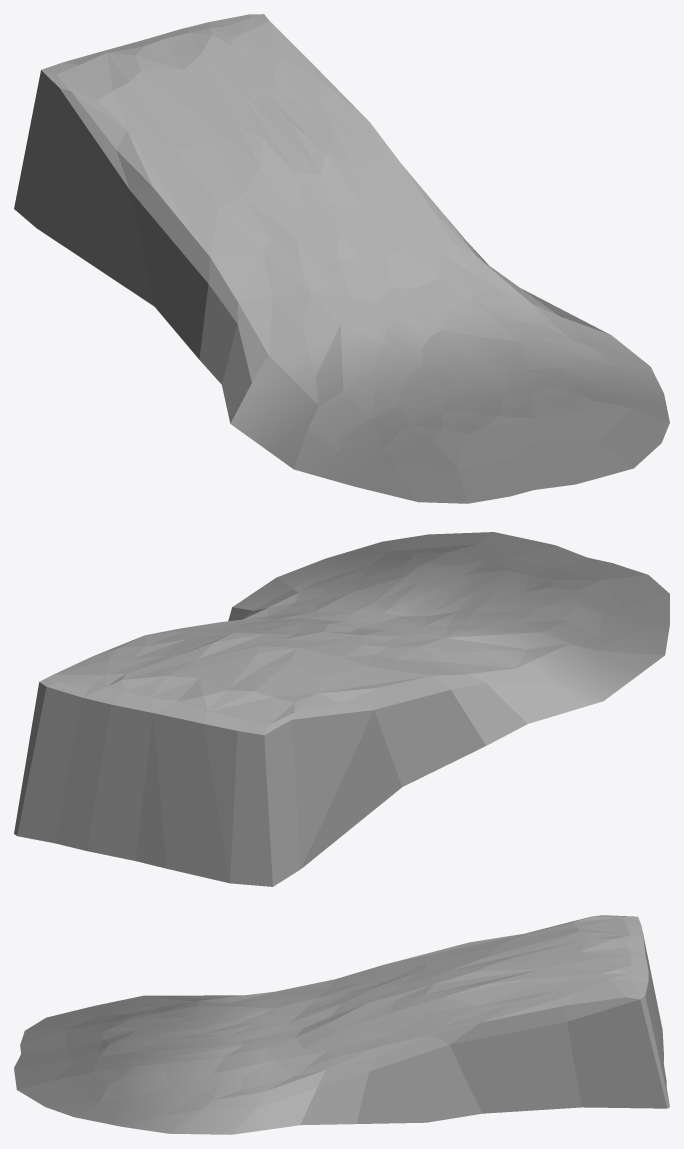
Rendered from SM_Gen_Env_Ground_Slope_Dirt_01.glb.
The picture shows the model from 3 angles, top to bottom: view 1: azimuth 30°, elevation 25°; view 2: azimuth 150°, elevation 25°; view 3: azimuth 270°, elevation 25°; orthographic projection. The views are drawn at different scales.
Visible parts, largest first — view 1: SM_Gen_Env_Ground_Slope__Dirt_01; view 2: SM_Gen_Env_Ground_Slope__Dirt_01; view 3: SM_Gen_Env_Ground_Slope__Dirt_01.
Boxes of the visible parts, x1,y1,x2,y2 form: SM_Gen_Env_Ground_Slope__Dirt_01: (14,14,669,503); SM_Gen_Env_Ground_Slope__Dirt_01: (14,532,669,886); SM_Gen_Env_Ground_Slope__Dirt_01: (14,915,669,1134).
Bounding box in the file's own units: 12.51 × 4.98 × 24.97.
1 material, 1 textured.
